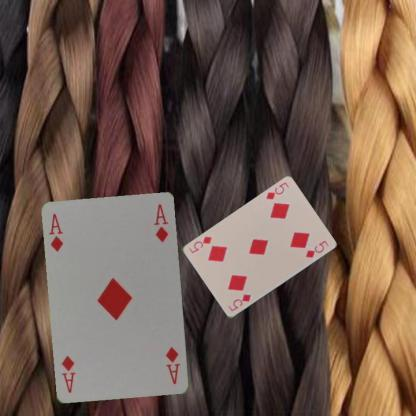5d: (226, 290, 254, 312), (264, 180, 290, 201)
Ad: (47, 211, 65, 254), (164, 344, 182, 386)
